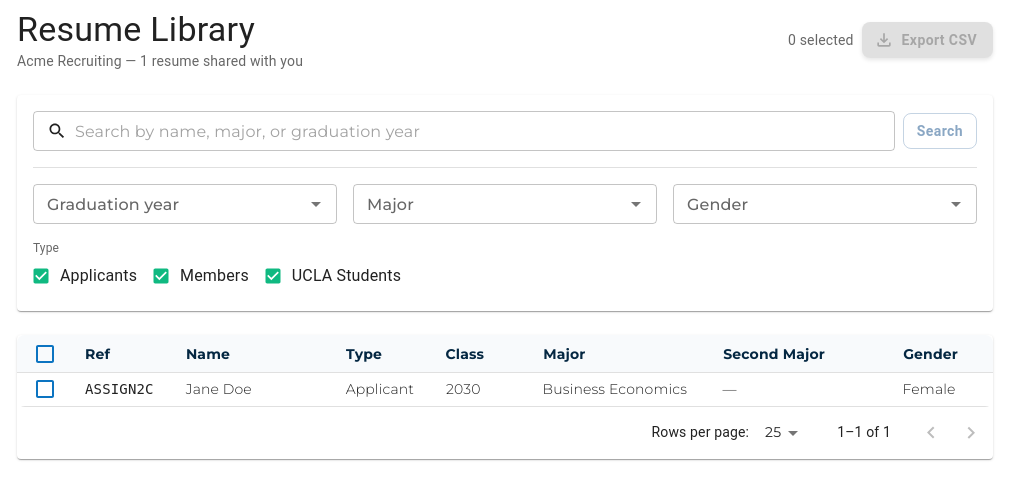
it: filtering › offers the platform-wide graduation years, not just the ones in this batch
Check: the text "Jane Doe" is shown, box 170,374 -> 330,406
Click the dropdown labelled "Graduation year" at (168, 204), box 39,190 -> 298,218
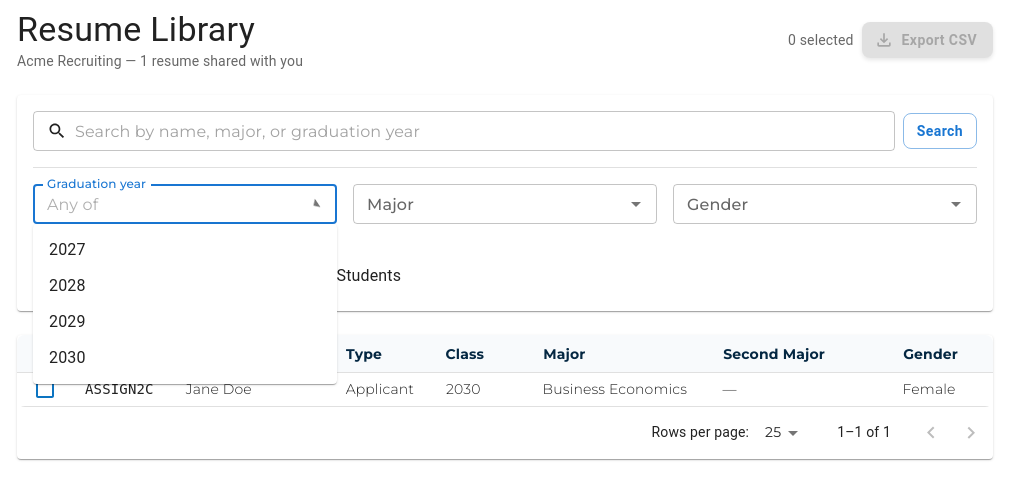
Check: the option does not show "2026"
Check: the options read "2027", "2028", "2029", "2030", in this order, box 49,240 -> 86,259; 49,276 -> 86,295; 49,312 -> 86,331; 49,348 -> 86,367
